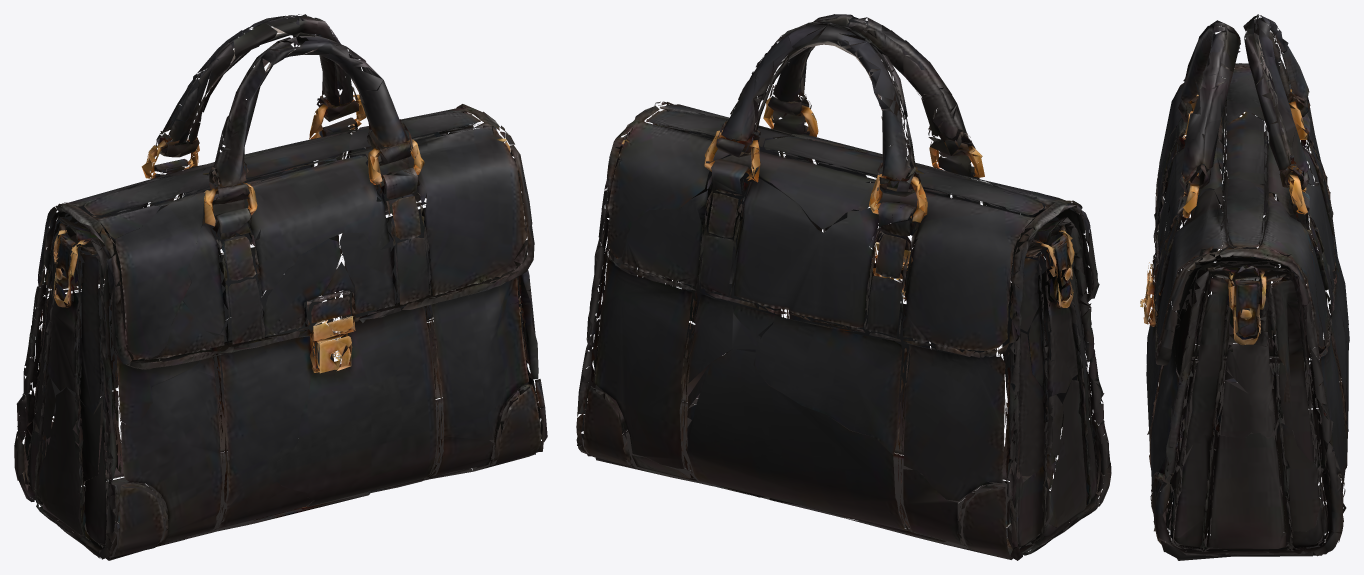
The model's file is base_basic_pbr.glb.
3 renders of one model, left to right at view 1: azimuth 30°, elevation 25°; view 2: azimuth 150°, elevation 25°; view 3: azimuth 270°, elevation 25°, orthographic. The views are drawn at different scales.
Visible parts, largest first — view 1: model; view 2: model; view 3: model.
Part boxes in pixels (bbox=[...]): model: bbox=[14, 14, 547, 560]; model: bbox=[576, 14, 1111, 560]; model: bbox=[1140, 14, 1349, 560].
Size of the model in its own units: 1.9 by 1.86 by 0.8072.
1 material, 1 textured.
